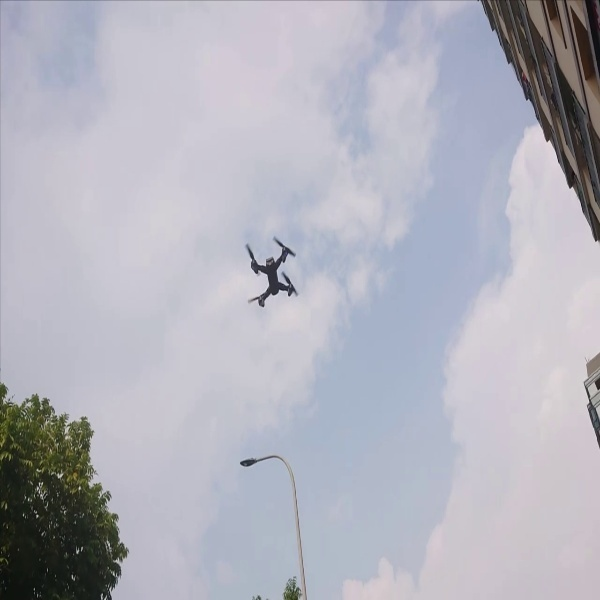drone: (238, 231, 306, 309)
